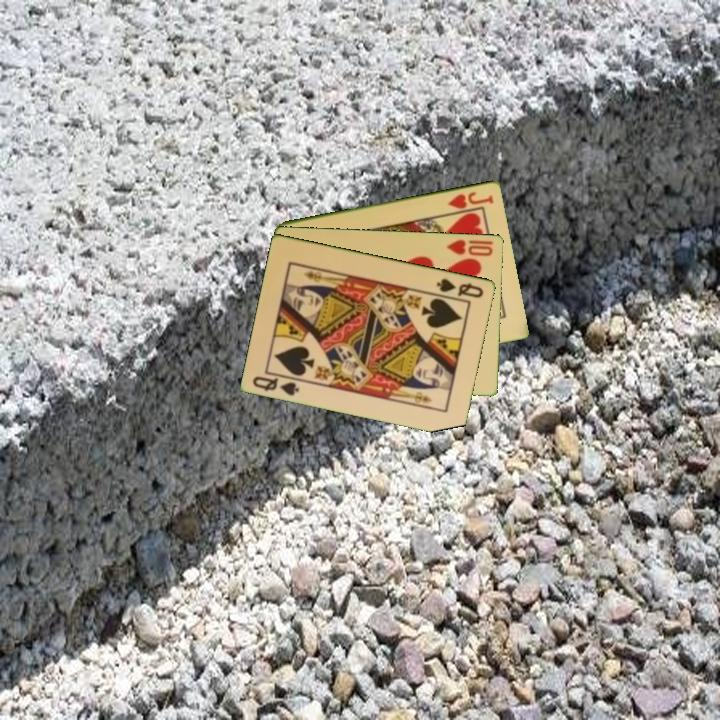10h: (444, 235, 496, 259)
Jh: (444, 188, 497, 211)
Qs: (249, 369, 305, 398), (433, 275, 487, 301)
